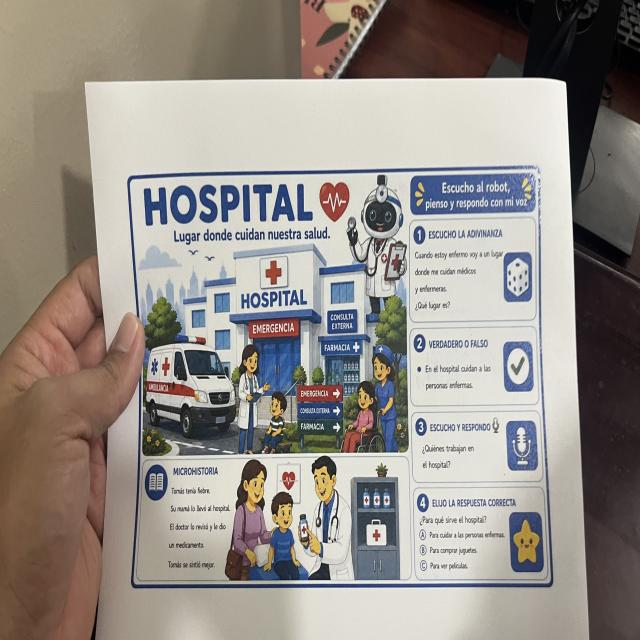hospital: (124, 160, 555, 596)
